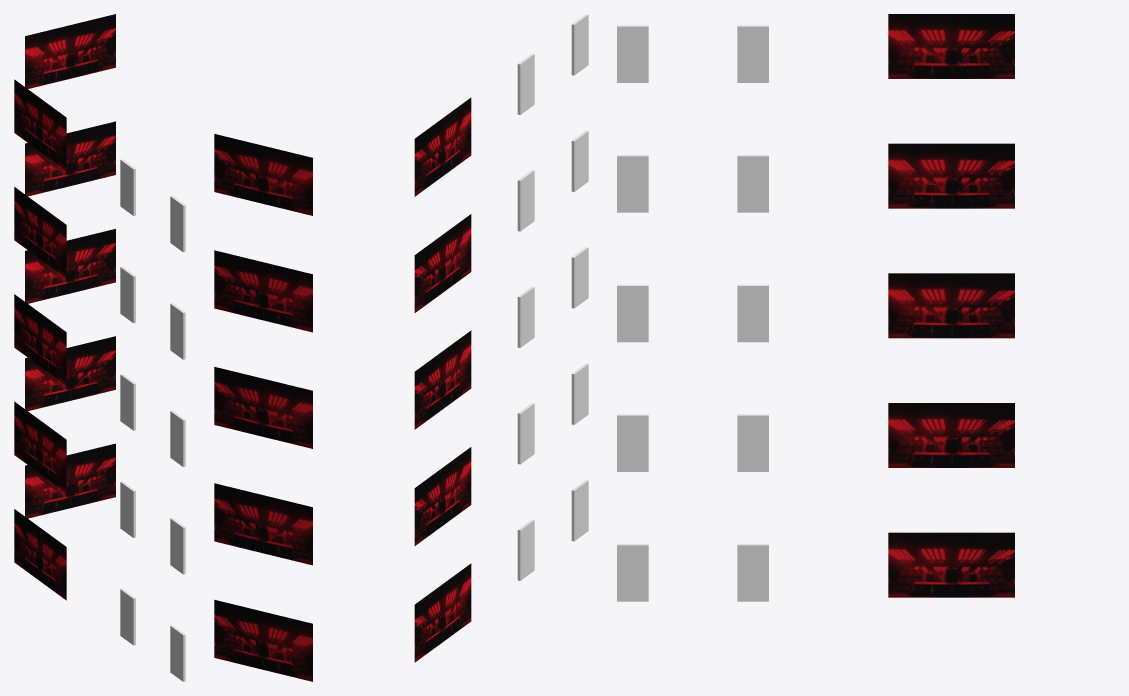
The model's file is PantallasAds_Okex2.glb.
The picture shows the model from 3 angles, left to right: view 1: azimuth 30°, elevation 25°; view 2: azimuth 150°, elevation 25°; view 3: azimuth 270°, elevation 25°; orthographic projection. The views are drawn at different scales.
Visible parts, largest first — view 1: pantalla, Object_10.002, Object_11.003, Object_10.004, Object_11, Object_11.001, Object_11.002, Object_10, Object_10.001, Object_10.003, Object_11.004; view 2: pantalla, Object_11, Object_10.001, Object_10, Object_11.001, Object_11.002, Object_10.003, Object_10.004, Object_11.004, Object_10.002, Object_11.003; view 3: pantalla, Object_10.001, Object_11.001, Object_10, Object_11, Object_10.002, Object_11.002, Object_10.003, Object_11.003, Object_10.004, Object_11.004.
Boxes of the visible parts, x1,y1,x2,y2 form: pantalla: (14,14,115,600); Object_10.002: (170,303,185,359); Object_11.003: (120,159,135,215); Object_10.004: (170,625,185,681); Object_11: (120,481,135,537); Object_11.001: (120,374,135,430); Object_11.002: (120,266,135,323); Object_10: (170,518,185,574); Object_10.001: (170,410,185,466); Object_10.003: (170,195,185,252); Object_11.004: (120,588,135,645); pantalla: (214,97,471,681); Object_11: (517,403,534,464); Object_10.001: (571,247,588,308); Object_10: (571,363,588,424); Object_11.001: (517,286,534,347); Object_11.002: (517,170,534,231); Object_10.003: (571,14,588,75); Object_10.004: (571,480,588,541); Object_11.004: (517,519,534,580); Object_10.002: (571,130,588,191); Object_11.003: (517,53,534,114); pantalla: (888,14,1014,597); Object_10.001: (617,284,648,342); Object_11.001: (737,284,768,342); Object_10: (617,414,648,471); Object_11: (737,414,768,471); Object_10.002: (617,155,648,212); Object_11.002: (737,155,768,212); Object_10.003: (617,25,648,82); Object_11.003: (737,25,768,82); Object_10.004: (617,544,648,601); Object_11.004: (737,544,768,601).
Size of the model in its own units: 13.95 by 45.01 by 34.79.
2 materials, 1 textured.
